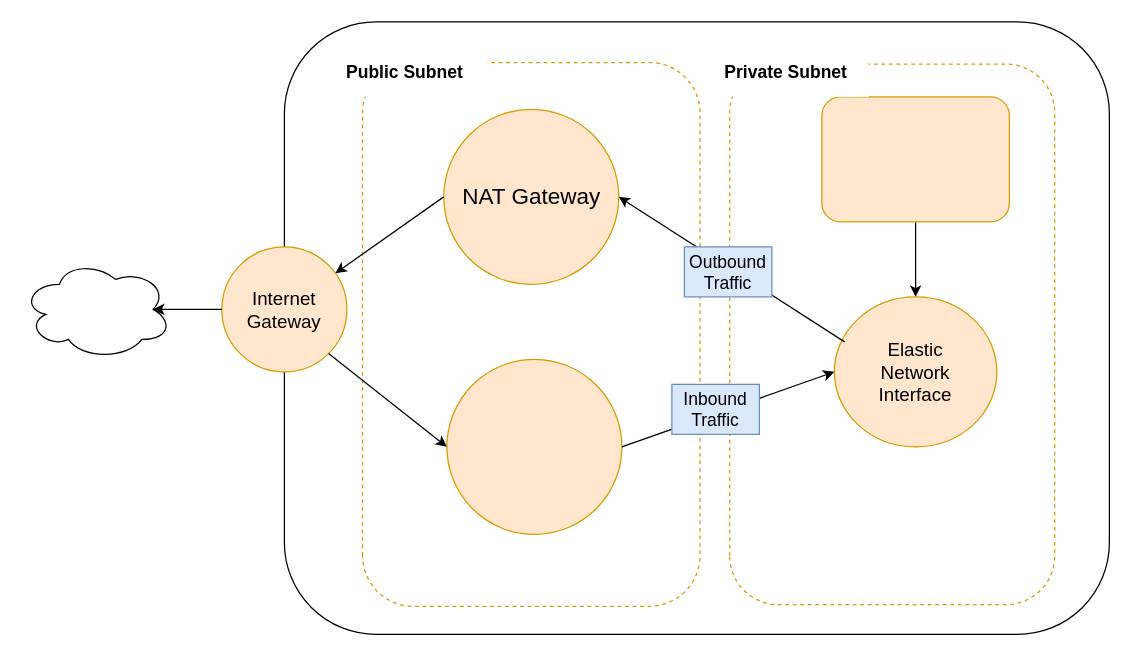
Some shapes in this 1131 by 656 pixel diagram are drawn without their labels. The box of each missing label's shape, as (x1, y1, x2, y2) in pixels:
Application Load Balancer: (446, 358, 622, 534)
Fargate Task: (821, 96, 1009, 222)
Internet: (21, 258, 172, 359)
